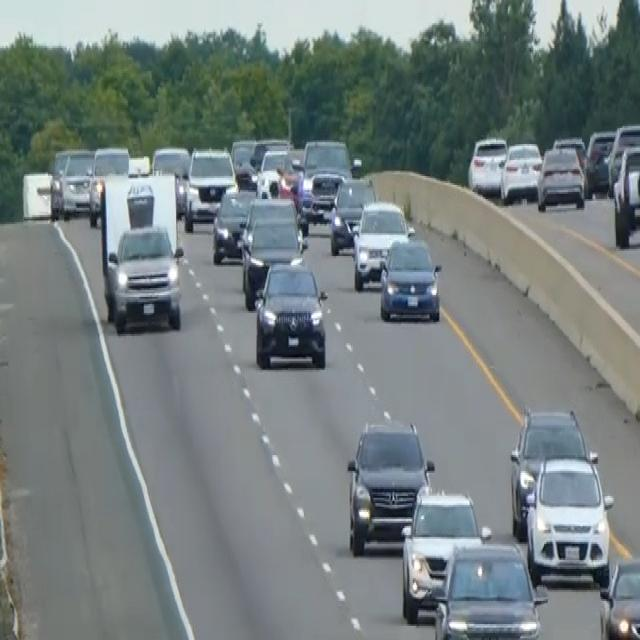car: (400, 484, 491, 624), (345, 416, 434, 555), (525, 449, 614, 586), (432, 537, 548, 638), (508, 404, 591, 538), (239, 196, 306, 306), (378, 233, 442, 322), (351, 197, 412, 290), (183, 144, 236, 231), (298, 137, 353, 220), (211, 183, 257, 265), (328, 174, 375, 254), (87, 144, 130, 226), (536, 142, 585, 212), (598, 555, 639, 638), (612, 142, 639, 247), (151, 144, 190, 215), (499, 138, 542, 202), (467, 134, 508, 196), (606, 121, 639, 195), (60, 147, 94, 217), (584, 128, 615, 196), (258, 146, 298, 196), (48, 146, 70, 218), (249, 135, 290, 173), (552, 133, 587, 176), (230, 135, 256, 174)
jeep: (252, 254, 329, 372)
truck: (98, 169, 184, 334)
